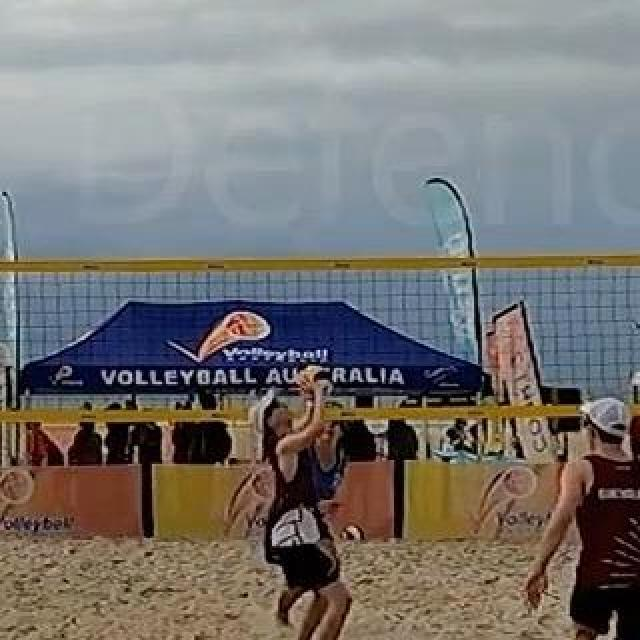volleyball: (299, 366, 333, 400), (343, 524, 363, 544)
